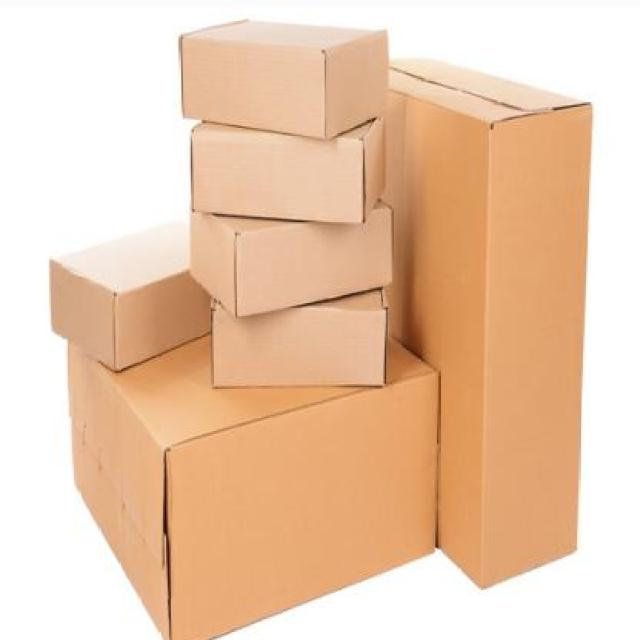box: (60, 340, 458, 640), (400, 19, 592, 605), (176, 5, 399, 152), (38, 208, 194, 385), (178, 117, 400, 231), (183, 209, 409, 311), (208, 302, 404, 403)
